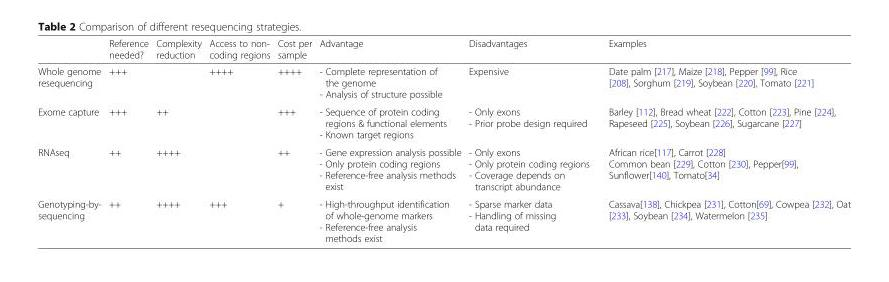table: (38, 37, 850, 243)
table column: (599, 37, 850, 243), (315, 37, 465, 243), (465, 37, 599, 243), (205, 37, 274, 243), (38, 37, 105, 243), (152, 37, 205, 243), (105, 37, 152, 243), (274, 37, 315, 243)
table column header: (38, 37, 850, 62)
table row: (38, 143, 850, 194), (38, 194, 850, 243), (38, 102, 850, 143), (38, 62, 850, 102), (38, 37, 850, 62)
